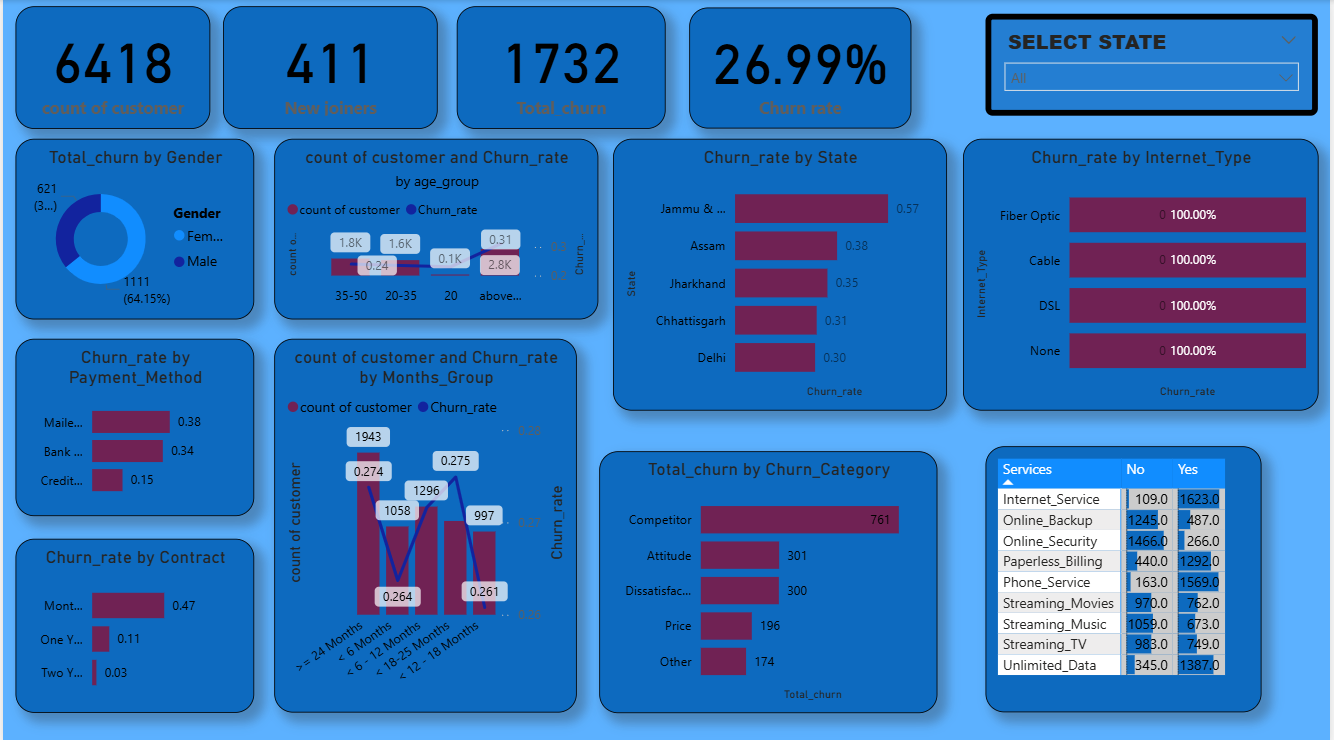

The dashboard page shown, as its layout file describes it:
{"tool":"powerbi","page":{"name":"Dashboard","canvas":[1280,720],"ordinal":0},"visuals":[{"type":"card","fields":{"Values":["tbl_column.Churn_rate"]},"box":[662.8,6.9,214.1,116.6],"z":0},{"type":"card","fields":{"Values":["tbl_column.count of customer"]},"box":[12.3,5.5,188,118],"z":1000},{"type":"card","fields":{"Values":["tbl_column.New joiners"]},"box":[212.7,5.5,207.2,118],"z":2000},{"type":"card","fields":{"Values":["tbl_column.Total_churn"]},"box":[437.7,5.5,201.7,118],"z":3000},{"type":"donutChart","fields":{"Category":["Customer_churn.Gender"],"Y":["tbl_column.Total_churn"]},"box":[12.3,134.5,230.5,174.3],"z":4000},{"type":"lineStackedColumnComboChart","fields":{"Category":["age_group.age_group"],"Y":["tbl_column.count of customer"],"Y2":["tbl_column.Churn_rate"]},"box":[262.1,134.5,312.9,174.3],"z":5000},{"type":"clusteredBarChart","fields":{"Y":["tbl_column.Churn_rate"],"Category":["Customer_churn.Payment_Method"]},"box":[12.3,326.6,230.5,171.5],"z":6000},{"type":"clusteredBarChart","fields":{"Y":["tbl_column.Churn_rate"],"Category":["Customer_churn.Contract"]},"box":[12.1,520,230.4,167.7],"z":7000},{"type":"lineStackedColumnComboChart","fields":{"Category":["Tenure_group.Months_Group"],"Y":["tbl_column.count of customer"],"Y2":["tbl_column.Churn_rate"]},"box":[262.1,326.6,292.3,360.9],"z":8000},{"type":"clusteredBarChart","fields":{"Category":["Customer_churn.State"],"Y":["tbl_column.Churn_rate"]},"box":[588.7,134.5,322.5,262.1],"z":9000},{"type":"clusteredBarChart","fields":{"Category":["Customer_churn.Churn_Category"],"Y":["tbl_column.Total_churn"]},"box":[575,435,326.6,252.5],"z":10000},{"type":"hundredPercentStackedBarChart","fields":{"Category":["Customer_churn.Internet_Type"],"Y":["tbl_column.Churn_rate"]},"box":[926.2,134.5,343.1,262.1],"z":11000},{"type":"pivotTable","fields":{"Rows":["prod_references.Services"],"Values":["Sum(prod_references.Churn _status)"],"Columns":["prod_references.Type"]},"box":[948.2,430.9,266.2,256.6],"z":12000},{"type":"slicer","fields":{"Values":["Customer_churn.State"]},"box":[948.2,13.7,321.1,98.8],"z":13000}]}

Visuals, with their boxes in screenshot pixels (x1, y1, x2, y2), scaled from the page's 1280x720 canvas onto the 1334x740 screenshot:
card - tbl_column.Churn_rate: left=691, top=7, right=914, bottom=127
card - tbl_column.count of customer: left=13, top=6, right=209, bottom=127
card - tbl_column.New joiners: left=222, top=6, right=438, bottom=127
card - tbl_column.Total_churn: left=456, top=6, right=666, bottom=127
donutChart - Customer_churn.Gender x tbl_column.Total_churn: left=13, top=138, right=253, bottom=317
lineStackedColumnComboChart - age_group.age_group x tbl_column.count of customer: left=273, top=138, right=599, bottom=317
clusteredBarChart - tbl_column.Churn_rate x Customer_churn.Payment_Method: left=13, top=336, right=253, bottom=512
clusteredBarChart - tbl_column.Churn_rate x Customer_churn.Contract: left=13, top=534, right=253, bottom=707
lineStackedColumnComboChart - Tenure_group.Months_Group x tbl_column.count of customer: left=273, top=336, right=578, bottom=707
clusteredBarChart - Customer_churn.State x tbl_column.Churn_rate: left=614, top=138, right=950, bottom=408
clusteredBarChart - Customer_churn.Churn_Category x tbl_column.Total_churn: left=599, top=447, right=940, bottom=707
hundredPercentStackedBarChart - Customer_churn.Internet_Type x tbl_column.Churn_rate: left=965, top=138, right=1323, bottom=408
pivotTable - prod_references.Services x Sum(prod_references.Churn _status): left=988, top=443, right=1266, bottom=707
slicer - Customer_churn.State: left=988, top=14, right=1323, bottom=116
